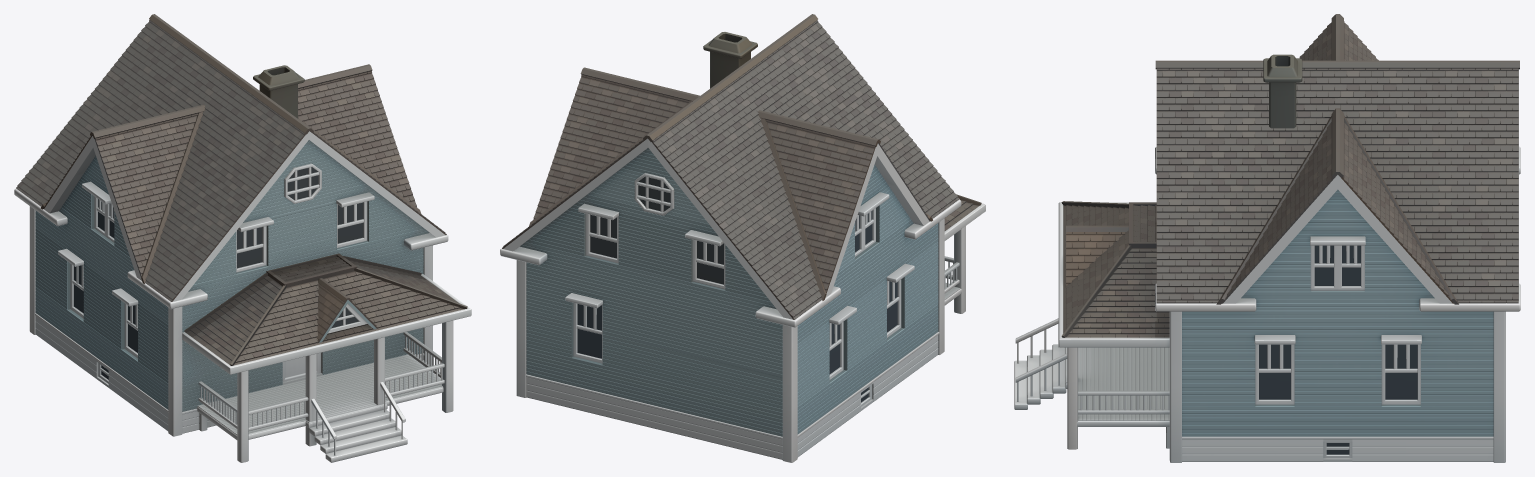
File: Home.glb
3 views of the same model, side by side, from view 1: azimuth 30°, elevation 25°; view 2: azimuth 150°, elevation 25°; view 3: azimuth 270°, elevation 25° (orthographic). The views are drawn at different scales.
Visible parts, largest first — view 1: home.1; view 2: home.1; view 3: home.1.
Boxes of the visible parts, left/top/right/bottom form: home.1: left=14, top=14, right=471, bottom=462; home.1: left=500, top=14, right=985, bottom=462; home.1: left=1014, top=14, right=1520, bottom=462.
Size of the model in its own units: 0.6046 by 0.6065 by 0.8156.
1 material, 1 textured.
